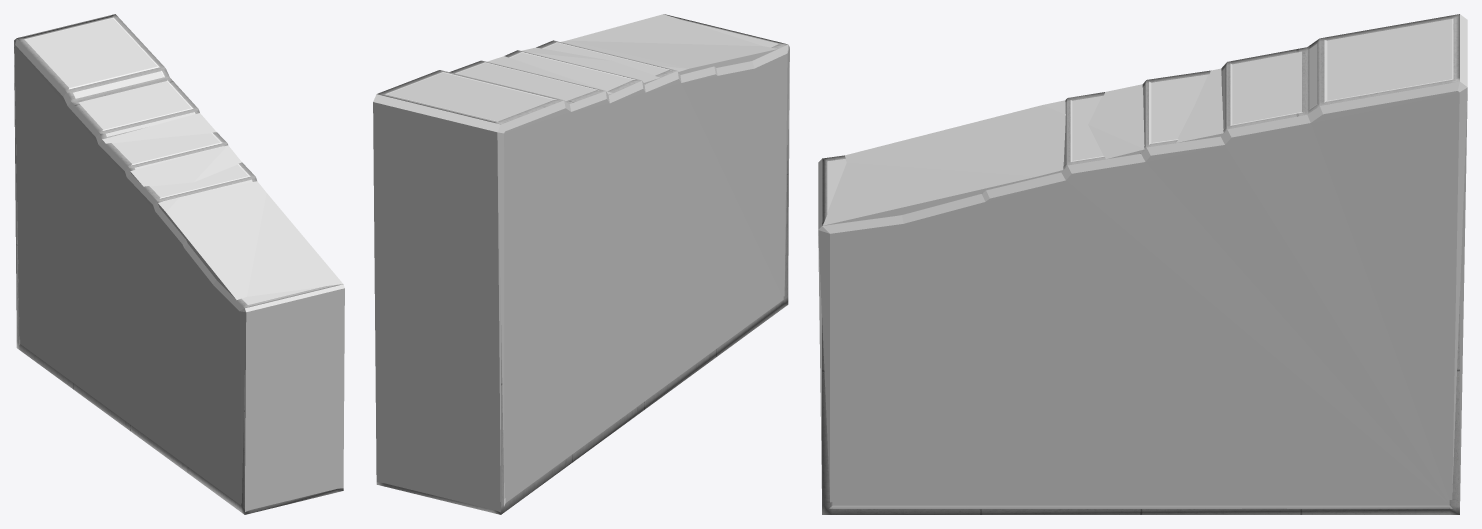
Rendered from s_gm_crawl_11.dae.
3 renders of one model, left to right at view 1: azimuth 30°, elevation 25°; view 2: azimuth 150°, elevation 25°; view 3: azimuth 270°, elevation 25°, orthographic. The views are drawn at different scales.
Visible parts, largest first — view 1: Colmesh_crawl_11-1, crawl_11_a25, crawl_11_a100, crawl_11_a50; view 2: Colmesh_crawl_11-1, crawl_11_a25, crawl_11_a100, crawl_11_a50; view 3: Colmesh_crawl_11-1, crawl_11_a25, crawl_11_a100, crawl_11_a50.
Part boxes in pixels (box(x1,y1,x2,y2)): Colmesh_crawl_11-1: box(14, 35, 344, 511); crawl_11_a25: box(102, 113, 342, 299); crawl_11_a100: box(16, 14, 343, 514); crawl_11_a50: box(25, 18, 156, 87); Colmesh_crawl_11-1: box(373, 21, 789, 512); crawl_11_a25: box(487, 14, 777, 94); crawl_11_a100: box(376, 14, 788, 514); crawl_11_a50: box(387, 73, 552, 121); Colmesh_crawl_11-1: box(818, 14, 1467, 505); crawl_11_a25: box(823, 68, 1223, 225); crawl_11_a100: box(822, 14, 1459, 514); crawl_11_a50: box(1327, 19, 1452, 100).
Bounding box in the file's own units: 2.1 × 8.15 × 6.
